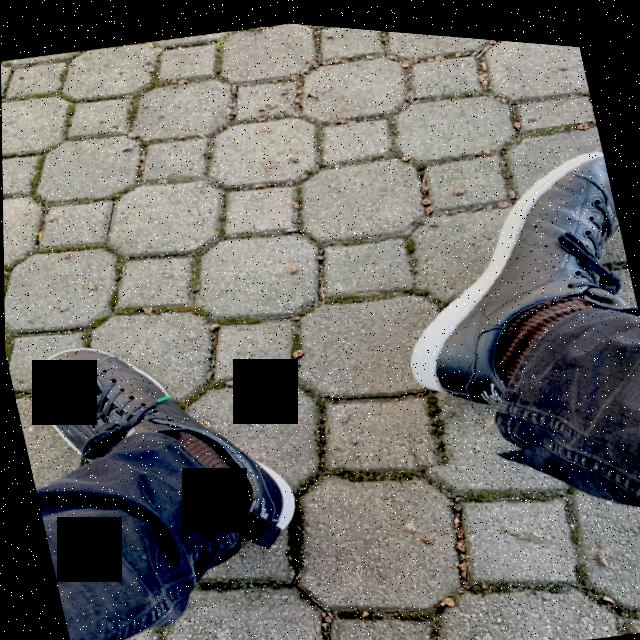shoe: (3, 224, 367, 626), (327, 92, 640, 480)
